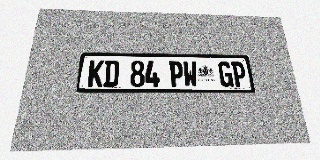4: (145, 61, 159, 87)
8: (130, 60, 145, 87)
D: (103, 60, 119, 87)
G: (218, 61, 234, 87)
K: (87, 60, 105, 87)
P: (231, 62, 247, 87), (169, 61, 184, 87)
W: (183, 61, 198, 87)
